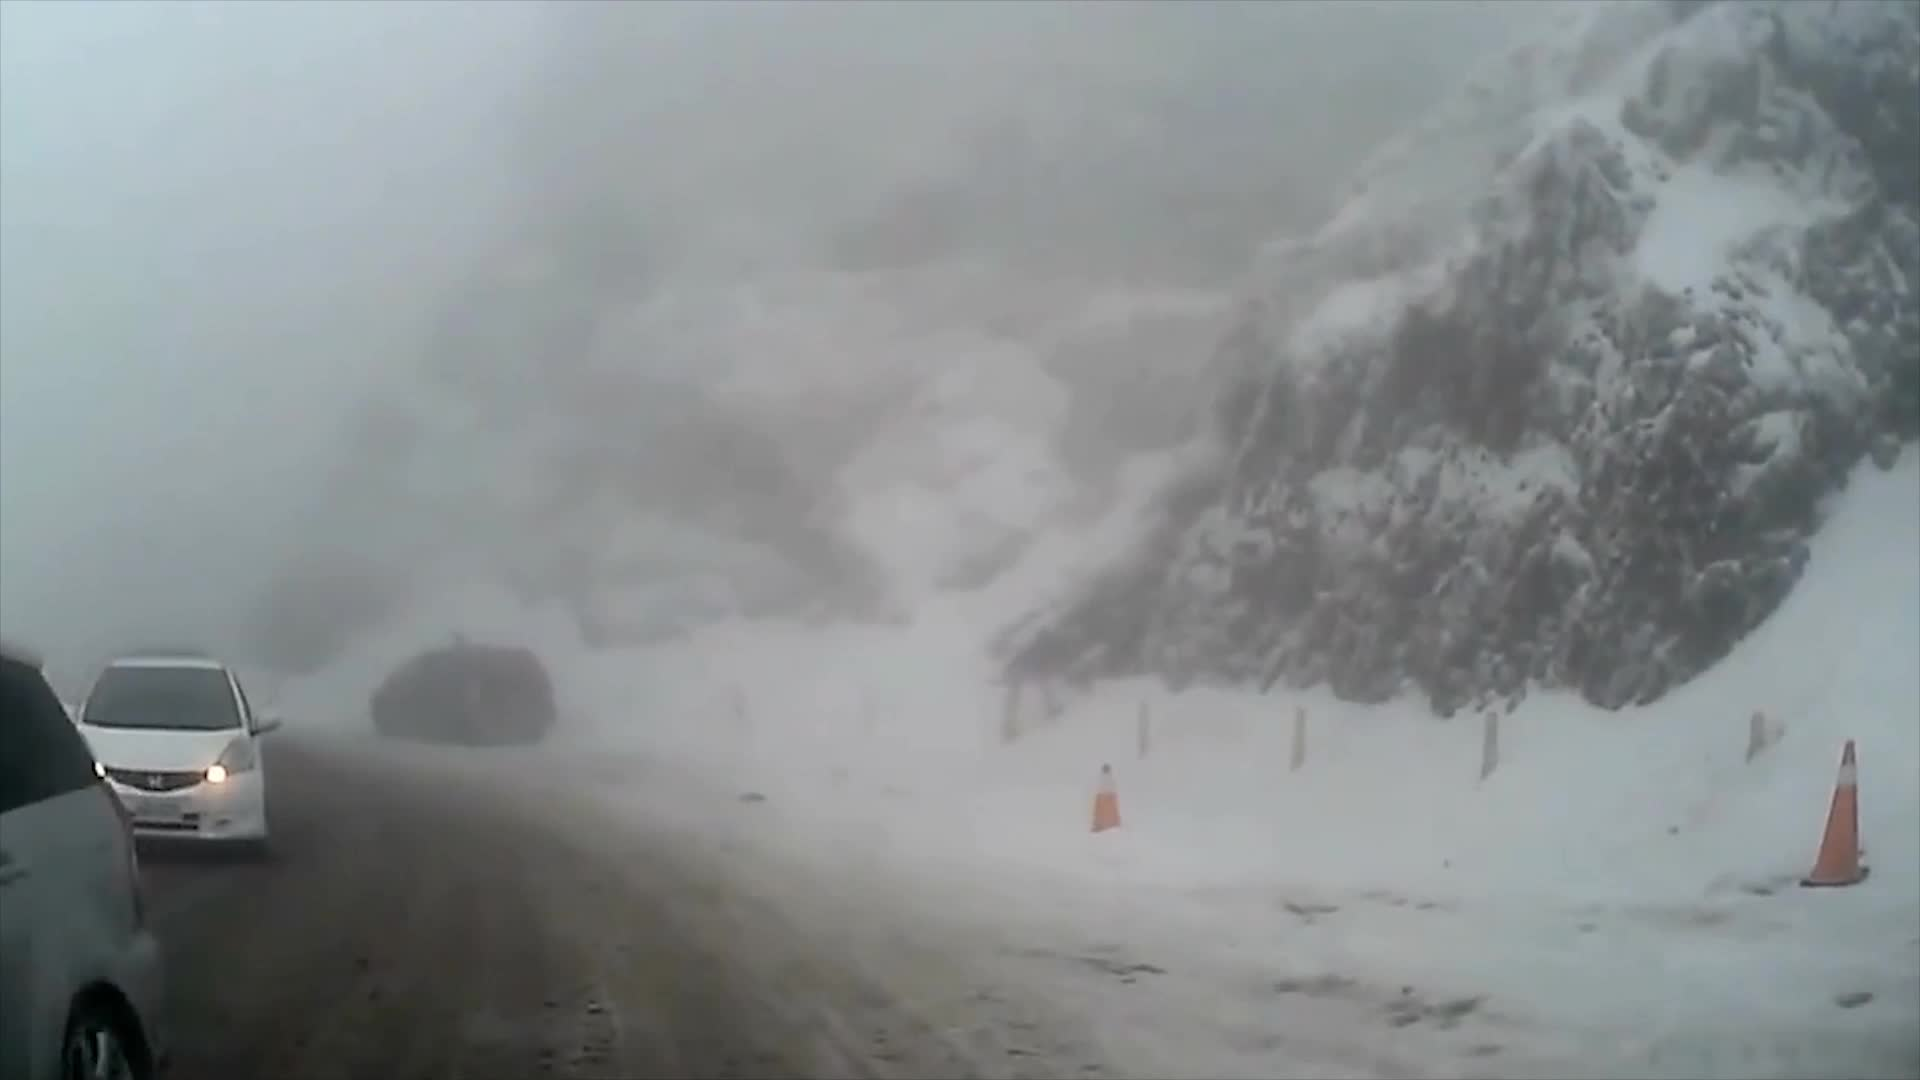vehicle: (0, 640, 174, 1079), (53, 653, 278, 866), (371, 644, 556, 746)
